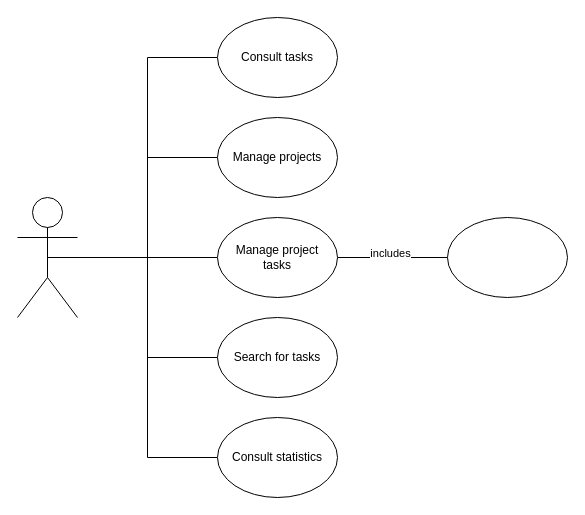
The diagram is 585 pixels wide and 515 high, and some of its shapes have lost their labels. The centre of each missing label's shape, as x and y in pixels:
Authentication: the point at 507,257
Utilisateur: the point at 47,257
